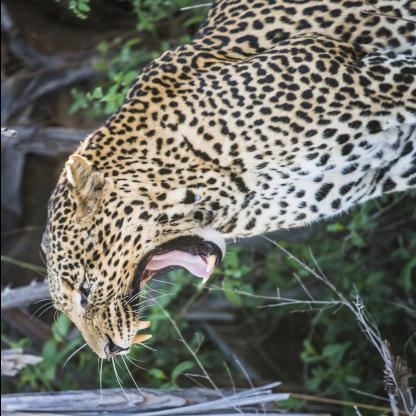leopard: (42, 154, 226, 358)
